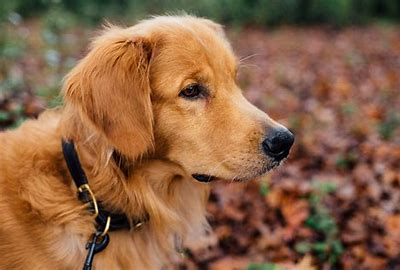dog: (7, 14, 305, 264)
